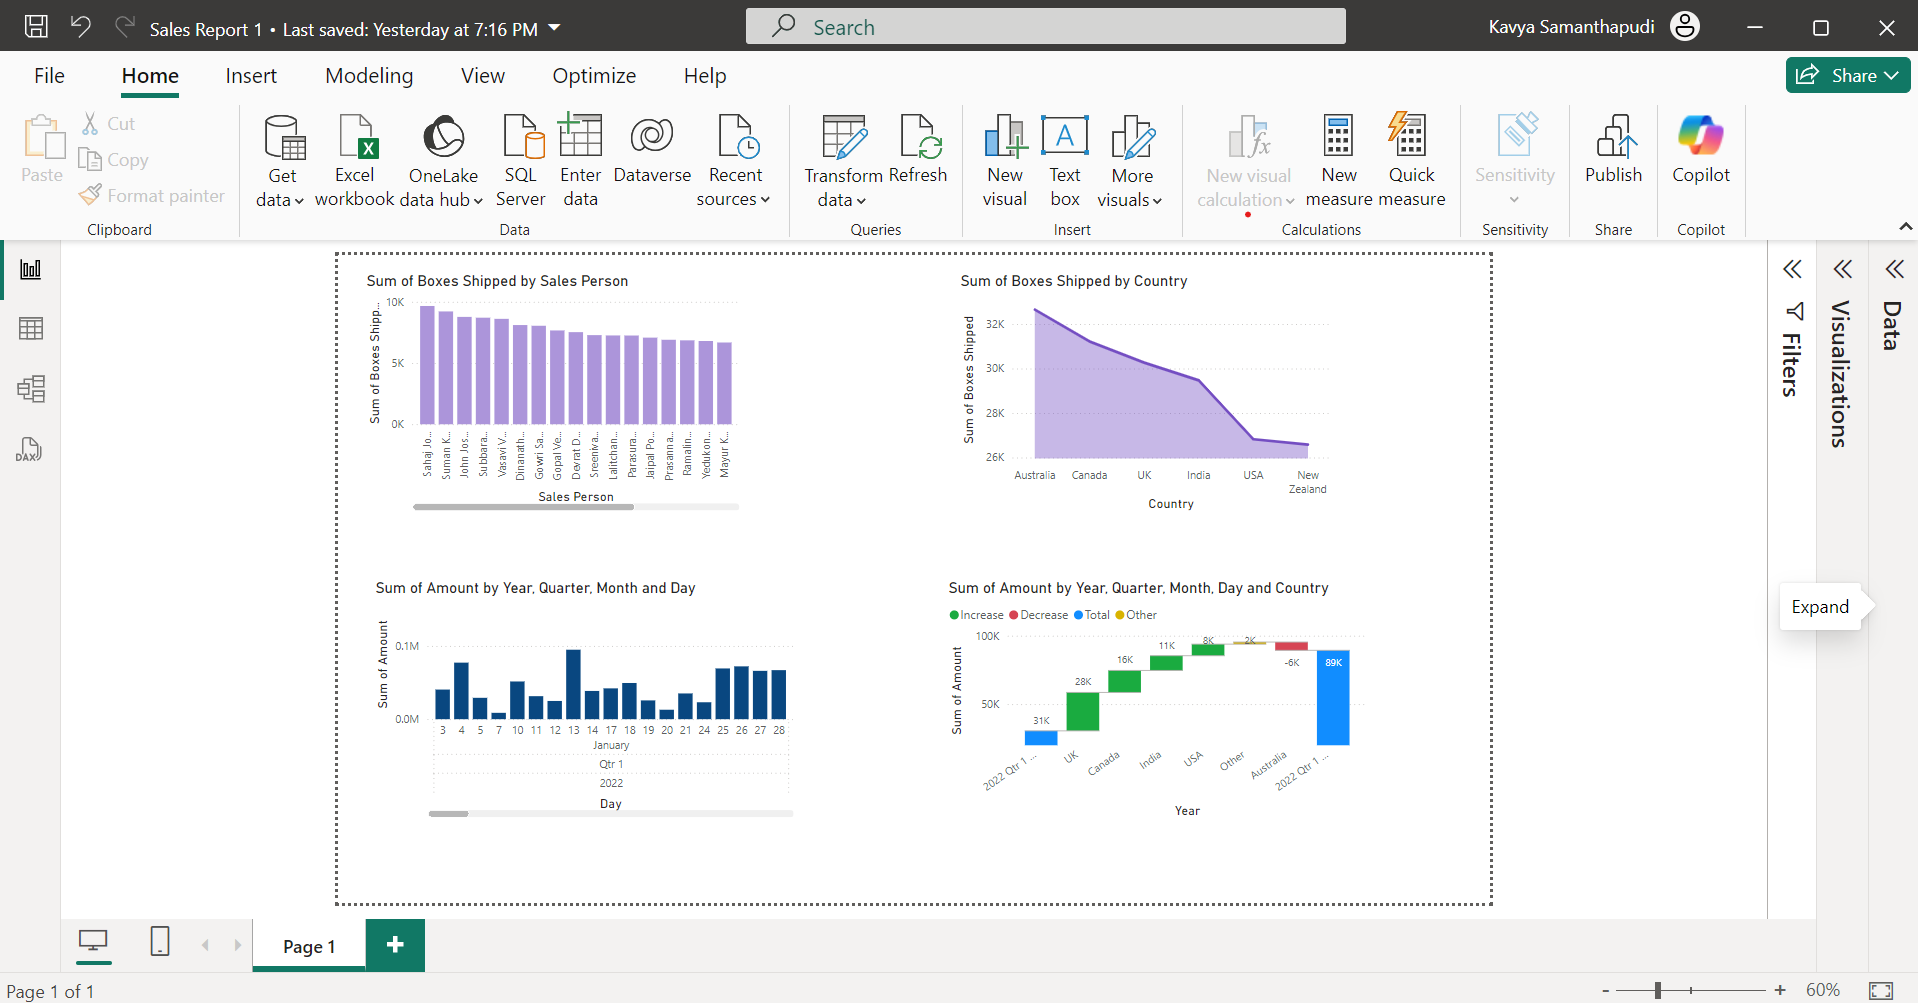

The dashboard page shown, as its layout file describes it:
{"tool":"powerbi","page":{"name":"Page 1","canvas":[1280,720],"ordinal":0},"visuals":[{"type":"columnChart","fields":{"Y":["Sum(data.Boxes Shipped)"],"Category":["data.Sales Person"]},"box":[26.3,18.5,424.1,270.4],"z":0},{"type":"areaChart","fields":{"Category":["data.Country"],"Y":["Sum(data.Boxes Shipped)"]},"box":[686.7,18.5,424.1,270.4],"z":1000},{"type":"lineClusteredColumnComboChart","fields":{"Y":["Sum(data.Amount)"],"Category":["data.Date.Variation.Date Hierarchy.Year","data.Date.Variation.Date Hierarchy.Quarter","data.Date.Variation.Date Hierarchy.Month","data.Date.Variation.Date Hierarchy.Day"]},"box":[37,359.9,474.7,269.4],"z":2000},{"type":"waterfallChart","fields":{"Category":["data.Date.Variation.Date Hierarchy.Year","data.Date.Variation.Date Hierarchy.Quarter","data.Date.Variation.Date Hierarchy.Month","data.Date.Variation.Date Hierarchy.Day"],"Breakdown":["data.Country"],"Y":["Sum(data.Amount)"]},"box":[674,359.9,474.7,269.4],"z":3000}]}

Visuals, with their boxes on the page's 1280x720 design canvas (x1, y1, x2, y2). These are canvas units, not pixel positions in the 1918x1003 screenshot, which may show the page scaled, cropped or inside an application window:
columnChart - Sum(data.Boxes Shipped) x data.Sales Person: <box>26,18,450,289</box>
areaChart - data.Country x Sum(data.Boxes Shipped): <box>687,18,1111,289</box>
lineClusteredColumnComboChart - Sum(data.Amount) x data.Date.Variation.Date Hierarchy.Year: <box>37,360,512,629</box>
waterfallChart - data.Date.Variation.Date Hierarchy.Year x data.Date.Variation.Date Hierarchy.Quarter: <box>674,360,1149,629</box>
